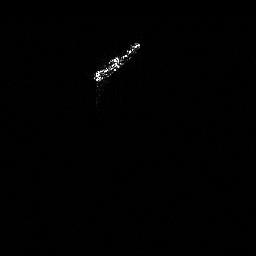ship: (86, 39, 143, 86)
